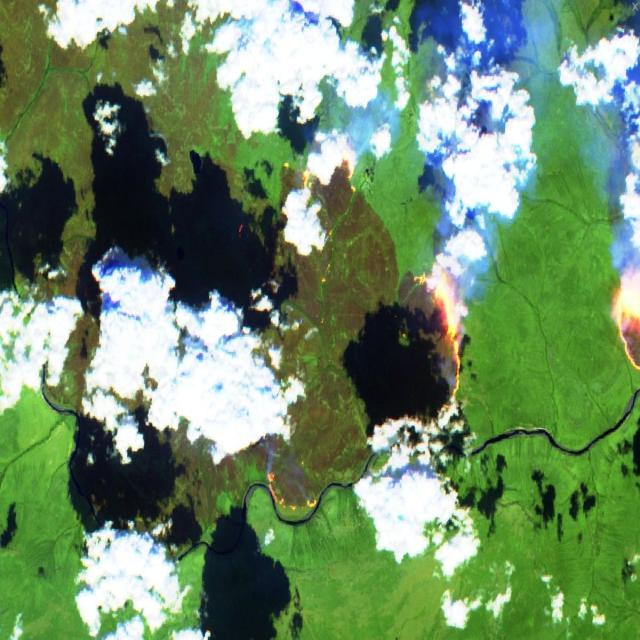fire: (404, 254, 472, 433), (279, 136, 359, 200), (603, 266, 640, 378), (264, 462, 327, 514)
